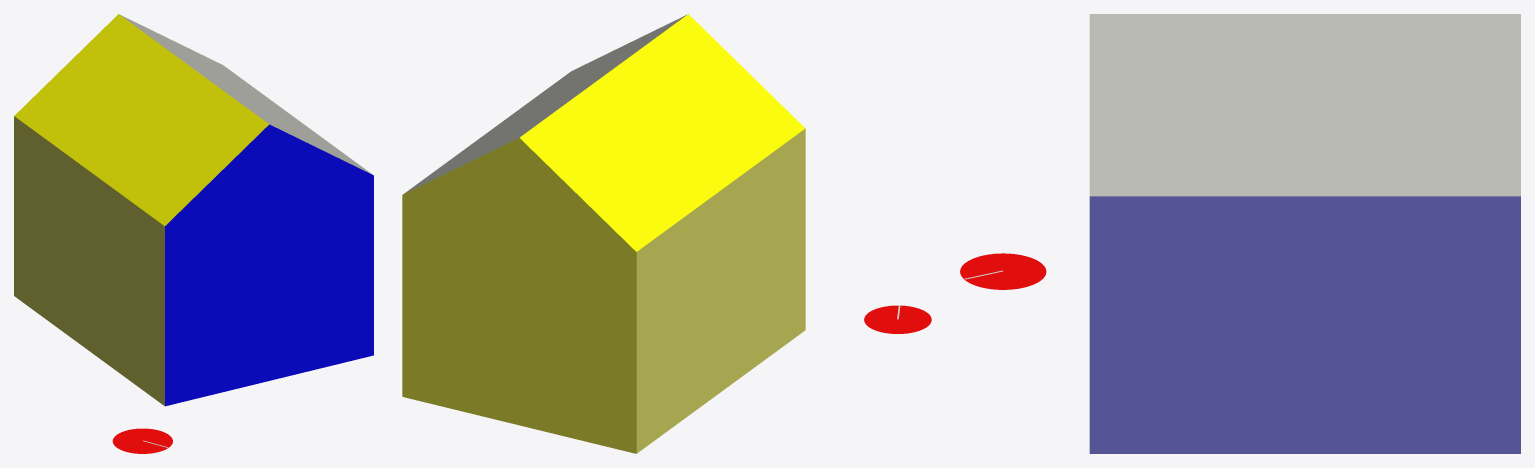
File: result.glb
3 views of the same model, side by side, from view 1: azimuth 30°, elevation 25°; view 2: azimuth 150°, elevation 25°; view 3: azimuth 270°, elevation 25° (orthographic). The views are drawn at different scales.
Visible parts, largest first — view 1: 3c43782a-d1a1-489a-9f26-fce46dd00066__undefined, 360de7c4-7b00-4601-85d8-26c7ccf3a761__undefined, 9b3d67c5-9fd3-45f3-b2e5-25dca1f13ce3__undefined, 943519fd-69d9-4d5a-970a-d60ee83110a3__undefined, a564956a-9081-4c96-8850-74519cf024df__Circle; view 2: a6be69e4-533c-4e35-b4ff-a164508f3cac__undefined, 360de7c4-7b00-4601-85d8-26c7ccf3a761__undefined, 9b3d67c5-9fd3-45f3-b2e5-25dca1f13ce3__undefined, 943519fd-69d9-4d5a-970a-d60ee83110a3__undefined, a564956a-9081-4c96-8850-74519cf024df__Circle; view 3: 5d7b624c-3589-4dda-b55c-42969210d00c__undefined, 943519fd-69d9-4d5a-970a-d60ee83110a3__undefined, a564956a-9081-4c96-8850-74519cf024df__Circle.
Part boxes in pixels (x1=…): 3c43782a-d1a1-489a-9f26-fce46dd00066__undefined: x1=165, y1=124, x2=373, y2=406; 360de7c4-7b00-4601-85d8-26c7ccf3a761__undefined: x1=14, y1=116, x2=164, y2=405; 9b3d67c5-9fd3-45f3-b2e5-25dca1f13ce3__undefined: x1=14, y1=14, x2=268, y2=225; 943519fd-69d9-4d5a-970a-d60ee83110a3__undefined: x1=119, y1=14, x2=372, y2=174; a564956a-9081-4c96-8850-74519cf024df__Circle: x1=112, y1=428, x2=172, y2=453; a6be69e4-533c-4e35-b4ff-a164508f3cac__undefined: x1=402, y1=138, x2=636, y2=453; 360de7c4-7b00-4601-85d8-26c7ccf3a761__undefined: x1=636, y1=128, x2=805, y2=453; 9b3d67c5-9fd3-45f3-b2e5-25dca1f13ce3__undefined: x1=519, y1=14, x2=805, y2=251; 943519fd-69d9-4d5a-970a-d60ee83110a3__undefined: x1=403, y1=14, x2=687, y2=194; a564956a-9081-4c96-8850-74519cf024df__Circle: x1=864, y1=305, x2=931, y2=333; 5d7b624c-3589-4dda-b55c-42969210d00c__undefined: x1=1089, y1=196, x2=1520, y2=453; 943519fd-69d9-4d5a-970a-d60ee83110a3__undefined: x1=1089, y1=14, x2=1520, y2=196; a564956a-9081-4c96-8850-74519cf024df__Circle: x1=960, y1=253, x2=1046, y2=289.
Bounding box in the file's own units: 550 × 469 × 650.
